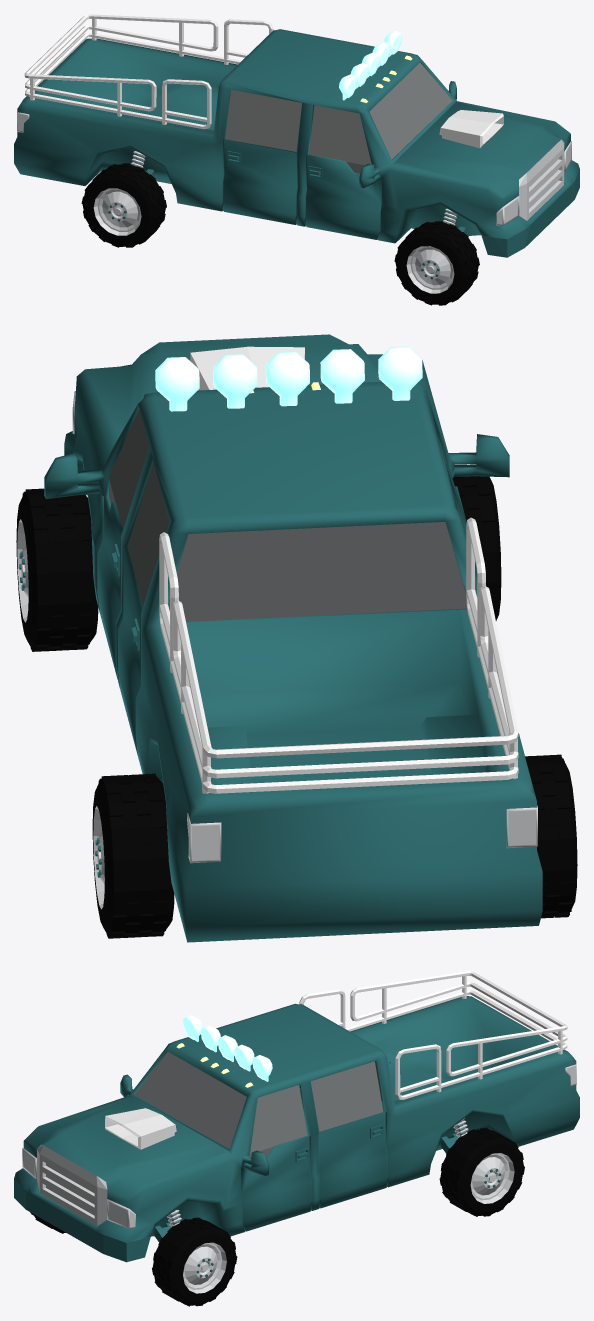
The model's file is car.fbx.
3 renders of one model, top to bottom at view 1: azimuth 30°, elevation 25°; view 2: azimuth 150°, elevation 25°; view 3: azimuth 270°, elevation 25°, orthographic. The views are drawn at different scales.
Parts seen in each view (by area): view 1: car; view 2: car; view 3: car.
Boxes of the visible parts, bbox=[...] form: car: bbox=[14, 14, 579, 305]; car: bbox=[16, 334, 577, 942]; car: bbox=[14, 971, 579, 1306].
Bounding box in the file's own units: 485 × 215 × 561.
